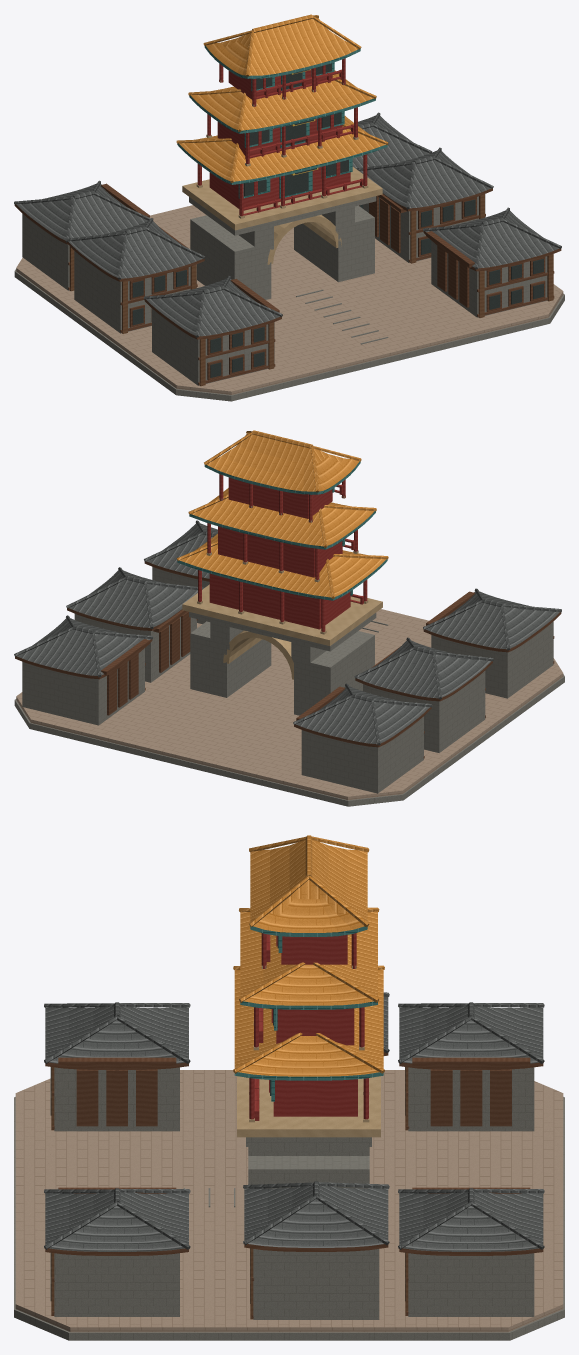
The model's file is pingyao.glb.
3 renders of one model, top to bottom at view 1: azimuth 30°, elevation 25°; view 2: azimuth 150°, elevation 25°; view 3: azimuth 270°, elevation 25°, orthographic. The views are drawn at different scales.
Parts seen in each view (by area): view 1: 平遥古城; view 2: 平遥古城; view 3: 平遥古城.
Boxes of the visible parts, box(x1,y1,x2,y2) form: 平遥古城: box(14, 14, 564, 401); 平遥古城: box(14, 430, 564, 806); 平遥古城: box(14, 835, 564, 1340).
Bounding box in the file's own units: 10.95 × 7.03 × 9.85.
11 materials, 11 textured.
